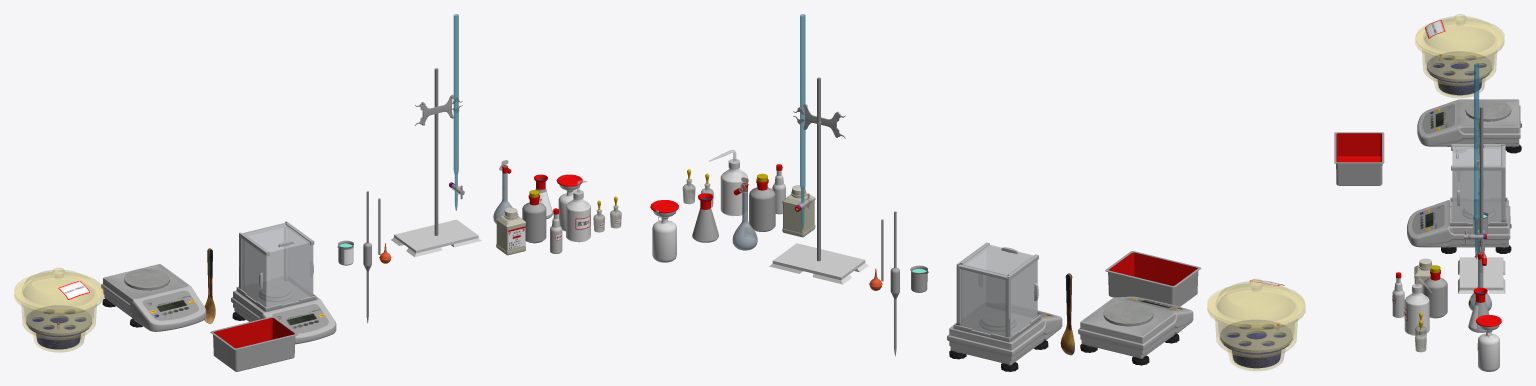
The model's file is shicu.fbx.
The picture shows the model from 3 angles, left to right: view 1: azimuth 30°, elevation 25°; view 2: azimuth 150°, elevation 25°; view 3: azimuth 270°, elevation 25°; orthographic projection. The views are drawn at different scales.
Visible parts, largest first — view 1: pasted__polySurface2 (×2), pasted__polySurface72, polySurface60, pasted__polySurface3 (×3), jiqi:pasted__GDryerH, yiqiyuceshi_2:pasted__pasted__pasted__pasted__pasted__pasted, pasted__polySurface64, pasted__polySurface16, pasted__polySurface15, pasted__polySurface10, pasted__polySurface8, pasted__polySurface12 (+9 smaller); view 2: pasted__polySurface72, pasted__polySurface2 (×2), polySurface60, jiqi:pasted__GDryerH, pasted__polySurface3 (×3), yiqiyuceshi_2:pasted__pasted__pasted__pasted__pasted__pasted, pasted__polySurface64, pasted__polySurface16, pasted__polySurface15, pasted__polySurface10, pasted__polySurface12, pasted__polySurface8 (+12 smaller); view 3: pasted__polySurface72, polySurface60, pasted__polySurface3 (×3), pasted__polySurface64, jiqi:pasted__GDryerH, yiqiyuceshi_2:pasted__pasted__pasted__pasted__pasted__pasted, pasted__polySurface8, pasted__polySurface2 (×2), pasted__polySurface10, pasted__polySurface15, shou:ynsj_3:pfo:pfo:pasted__polySurface116, pasted__pasted__polySurface1 (×2) (+18 smaller).
Boxes of the visible parts, x1=… form: pasted__polySurface2 (×2): x1=210, y1=243, x2=312, y2=371; pasted__polySurface72: x1=14, y1=278, x2=103, y2=352; polySurface60: x1=101, y1=264, x2=206, y2=331; pasted__polySurface3 (×3): x1=36, y1=194, x2=546, y2=349; jiqi:pasted__GDryerH: x1=14, y1=268, x2=103, y2=311; yiqiyuceshi_2:pasted__pasted__pasted__pasted__pasted__pasted: x1=391, y1=68, x2=481, y2=257; pasted__polySurface64: x1=231, y1=290, x2=336, y2=344; pasted__polySurface16: x1=245, y1=228, x2=283, y2=289; pasted__polySurface15: x1=26, y1=305, x2=91, y2=335; pasted__polySurface10: x1=241, y1=239, x2=266, y2=307; pasted__polySurface8: x1=289, y1=230, x2=313, y2=295; pasted__polySurface12: x1=245, y1=224, x2=310, y2=252; pasted__polySurface72: x1=1207, y1=290, x2=1305, y2=370; pasted__polySurface2 (×2): x1=987, y1=246, x2=1201, y2=317; polySurface60: x1=1078, y1=296, x2=1193, y2=358; jiqi:pasted__GDryerH: x1=1207, y1=279, x2=1304, y2=326; pasted__polySurface3 (×3): x1=749, y1=179, x2=1281, y2=368; yiqiyuceshi_2:pasted__pasted__pasted__pasted__pasted__pasted: x1=769, y1=77, x2=868, y2=284; pasted__polySurface64: x1=947, y1=310, x2=1062, y2=364; pasted__polySurface16: x1=960, y1=269, x2=1005, y2=336; pasted__polySurface15: x1=1220, y1=319, x2=1292, y2=352; pasted__polySurface10: x1=1011, y1=260, x2=1037, y2=335; pasted__polySurface12: x1=962, y1=244, x2=1033, y2=275; pasted__polySurface8: x1=963, y1=251, x2=985, y2=322; pasted__polySurface72: x1=1415, y1=24, x2=1503, y2=97; polySurface60: x1=1417, y1=99, x2=1520, y2=146; pasted__polySurface3 (×3): x1=1336, y1=79, x2=1482, y2=318; pasted__polySurface64: x1=1407, y1=200, x2=1510, y2=247; jiqi:pasted__GDryerH: x1=1416, y1=14, x2=1504, y2=57; yiqiyuceshi_2:pasted__pasted__pasted__pasted__pasted__pasted: x1=1458, y1=106, x2=1505, y2=293; pasted__polySurface8: x1=1452, y1=170, x2=1501, y2=222; pasted__polySurface2 (×2): x1=1334, y1=57, x2=1489, y2=185; pasted__polySurface10: x1=1453, y1=149, x2=1500, y2=201; pasted__polySurface15: x1=1427, y1=51, x2=1492, y2=81; shou:ynsj_3:pfo:pfo:pasted__polySurface116: x1=1470, y1=63, x2=1481, y2=258; pasted__pasted__polySurface1 (×2): x1=1404, y1=292, x2=1429, y2=351.
Size of the model in its own units: 232 by 110 by 64.92.
